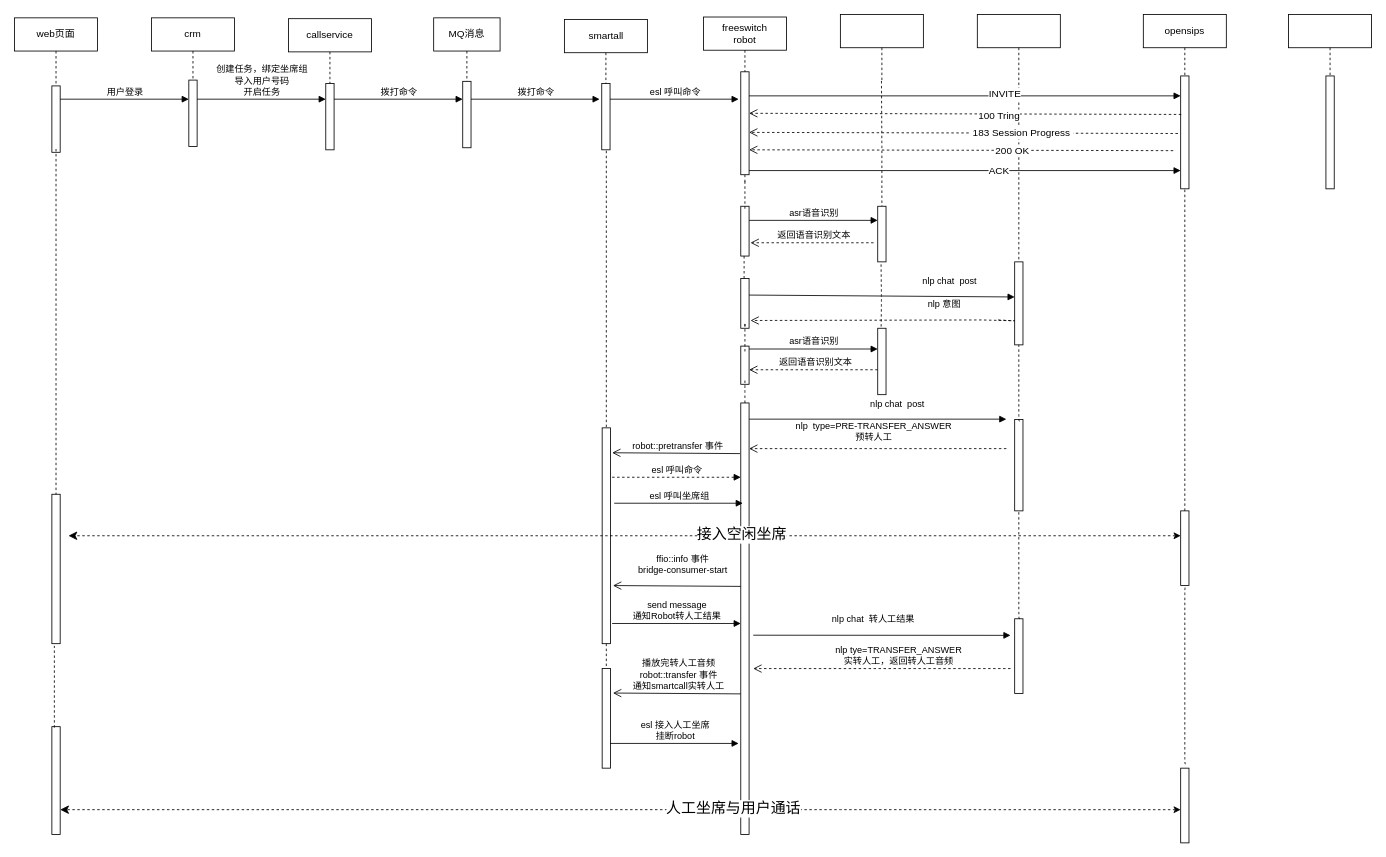
This 1386x857 diagram has some shape labels left out. The box of each missing label's shape, as (x1, y1, x2, y2) in pixels:
asr-server: (840, 14, 923, 81)
gateway: (1288, 14, 1372, 189)
nlp-server: (976, 14, 1060, 262)
